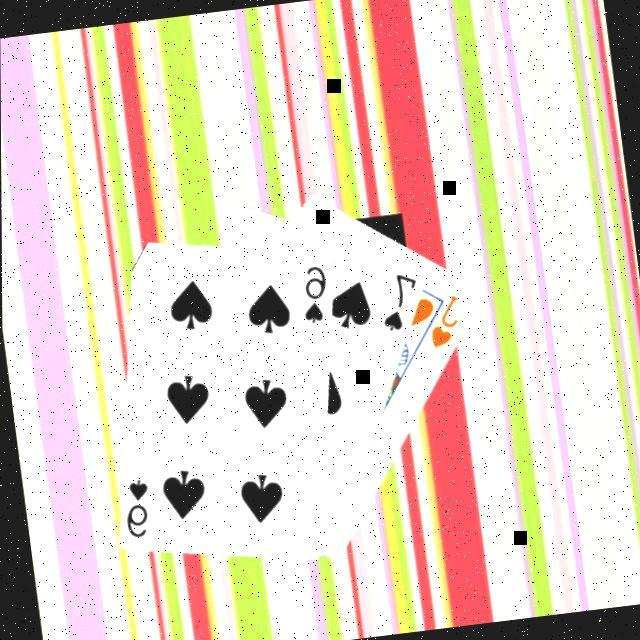6S: (295, 259, 334, 325), (117, 473, 156, 539)
7S: (374, 266, 425, 333)
JH: (422, 288, 467, 349)
